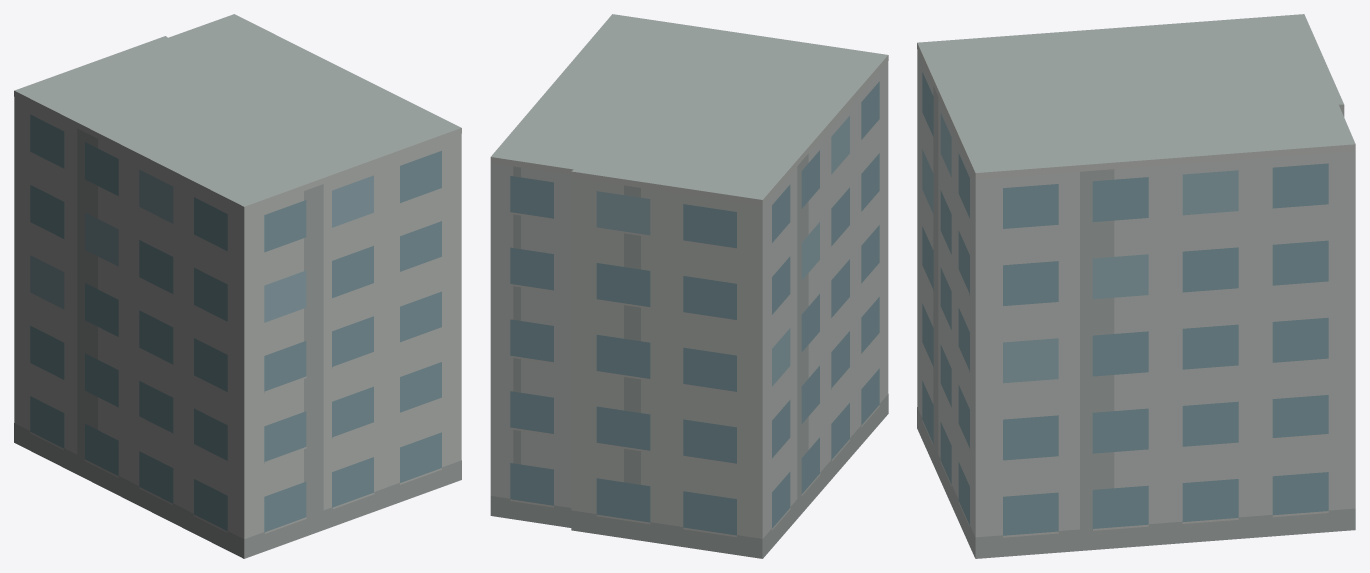
File: survey-upis-32950700.glb
3 renders of one model, left to right at view 1: azimuth 30°, elevation 25°; view 2: azimuth 150°, elevation 25°; view 3: azimuth 270°, elevation 25°, orthographic. The views are drawn at different scales.
Parts seen in each view (by area): view 1: survey-upis-32950700.tmp; view 2: survey-upis-32950700.tmp; view 3: survey-upis-32950700.tmp.
Boxes of the visible parts, x1=… form: survey-upis-32950700.tmp: x1=14, y1=14, x2=461, y2=558; survey-upis-32950700.tmp: x1=490, y1=14, x2=888, y2=558; survey-upis-32950700.tmp: x1=917, y1=14, x2=1355, y2=558.
Bounding box in the file's own units: 12.75 × 14.4 × 14.85.
